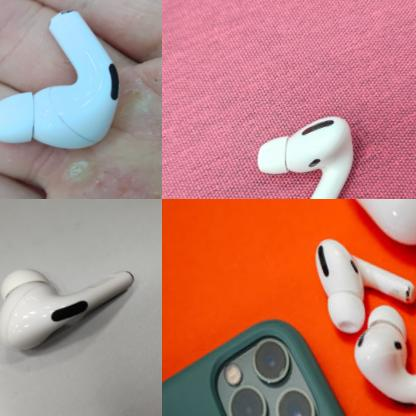Airpods: (0, 0, 156, 178), (0, 216, 150, 371), (241, 96, 386, 199), (298, 219, 416, 340), (323, 297, 416, 416)
